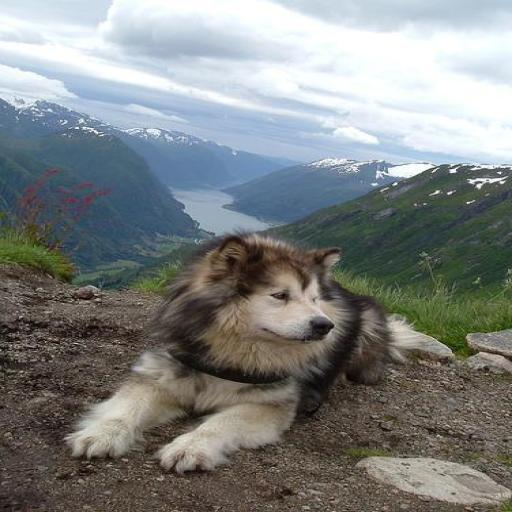dog_face: (210, 236, 361, 352)
